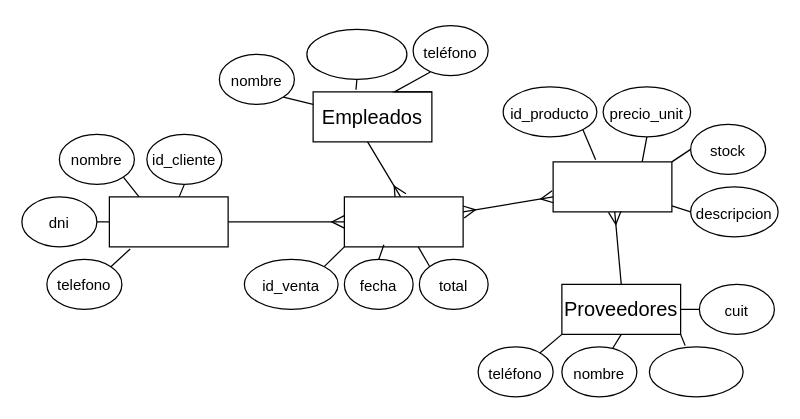
Image size: 800x419. Some labels were removed from this diagram. Each missing label, with the box of its shape:
Clientes: (108, 196, 228, 247)
id_empleado: (306, 28, 407, 79)
id_proveedor: (648, 346, 743, 397)
Productos: (552, 161, 672, 212)
Ventas: (343, 196, 463, 247)
